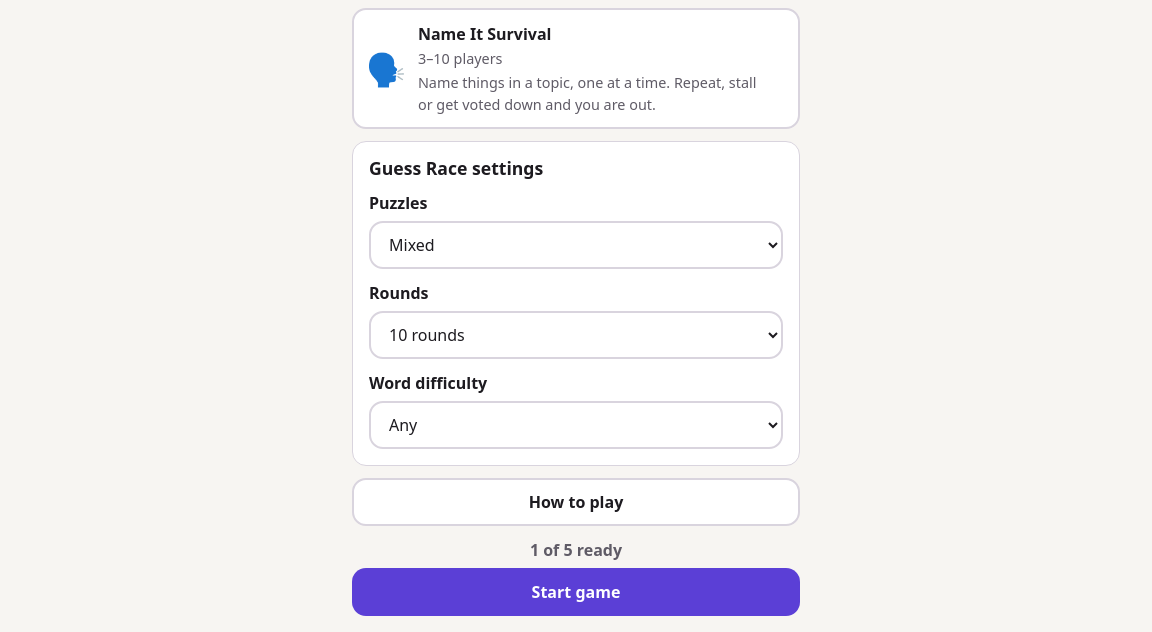
Scenario: Start (host) › lists three names and "and N more" for a big room
(page scrolled)
Click the button "Start game" at (576, 592), box [352,568,800,616]
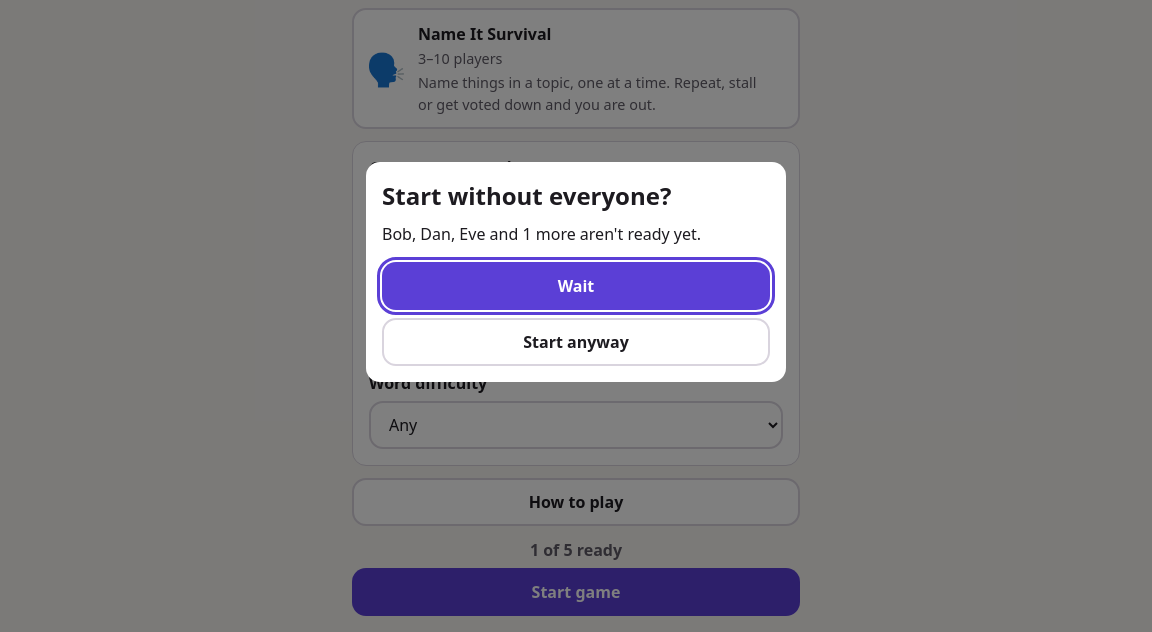
Expected: the text "Bob, Dan, Eve and 1 more aren't ready yet." is shown, [382,223,701,245]
